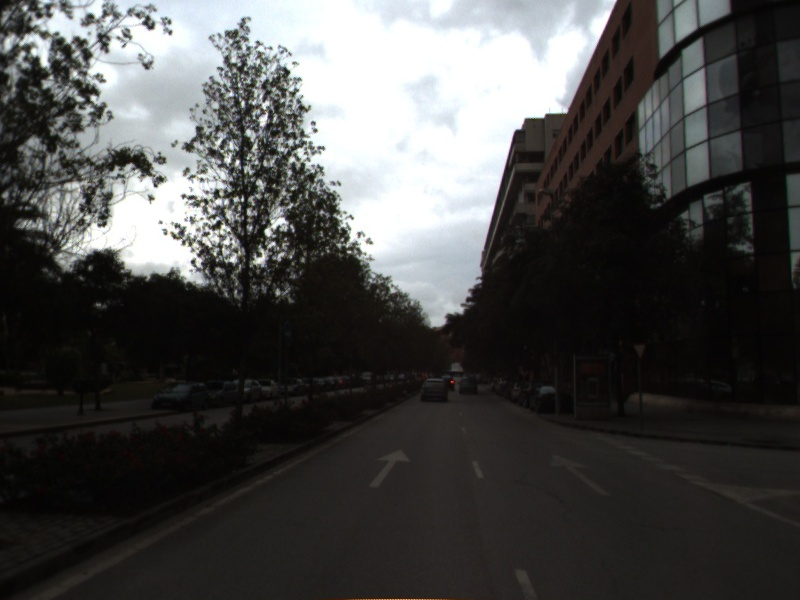STRAIGHT: (548, 452, 613, 498), (367, 447, 413, 489)
